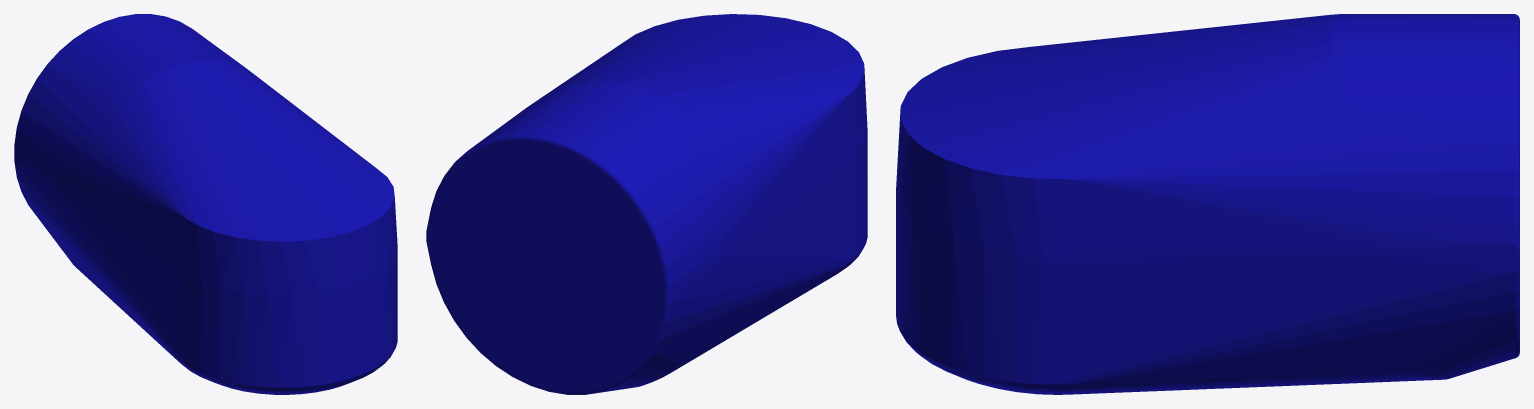
Rendered from MOTOMAN_AXIS_E.dae.
The picture shows the model from 3 angles, left to right: view 1: azimuth 30°, elevation 25°; view 2: azimuth 150°, elevation 25°; view 3: azimuth 270°, elevation 25°; orthographic projection. The views are drawn at different scales.
Visible parts, largest first — view 1: node; view 2: node; view 3: node.
Part boxes in pixels (x1,y1,x2,y2): node: (14, 14, 397, 394); node: (426, 14, 867, 394); node: (896, 14, 1519, 394).
Bounding box in the file's own units: 0.1821 × 0.195 × 0.3296.
